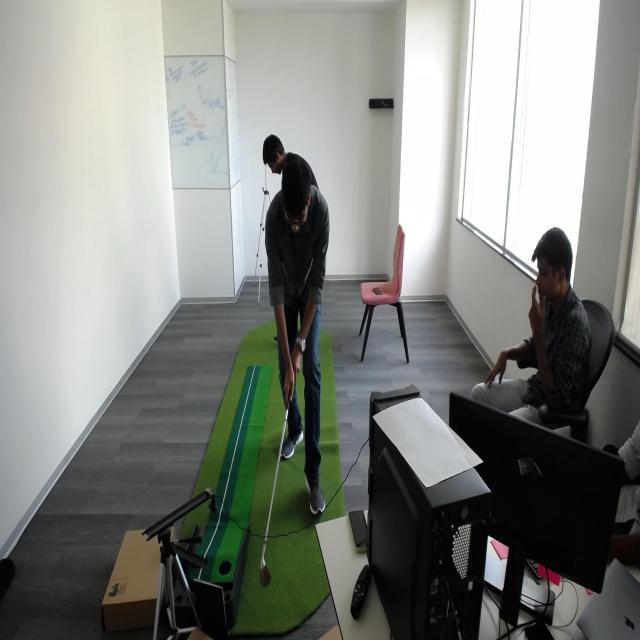ClubHead: (253, 544, 276, 594)
